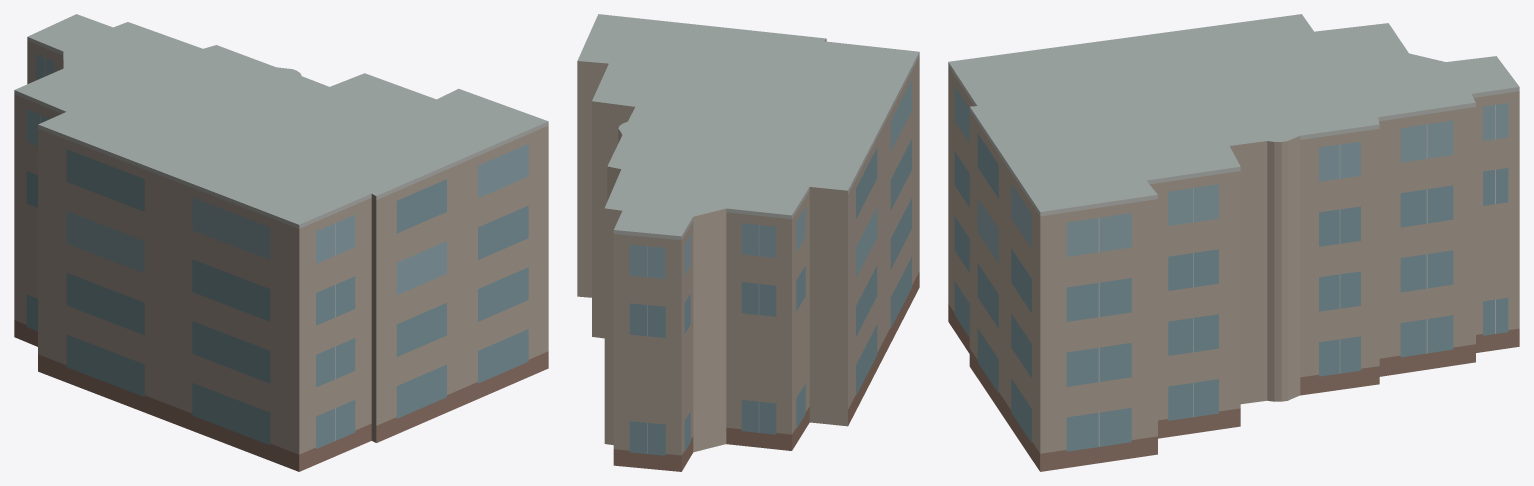
The model's file is survey-upis-32678792.glb.
3 renders of one model, left to right at view 1: azimuth 30°, elevation 25°; view 2: azimuth 150°, elevation 25°; view 3: azimuth 270°, elevation 25°, orthographic. The views are drawn at different scales.
Visible parts, largest first — view 1: survey-upis-32678792.tmp; view 2: survey-upis-32678792.tmp; view 3: survey-upis-32678792.tmp.
Boxes of the visible parts, box(x1,y1,x2,y2) form: survey-upis-32678792.tmp: box(14, 14, 548, 471); survey-upis-32678792.tmp: box(577, 14, 919, 471); survey-upis-32678792.tmp: box(948, 14, 1519, 471).
Size of the model in its own units: 24.22 by 14.8 by 29.51.
